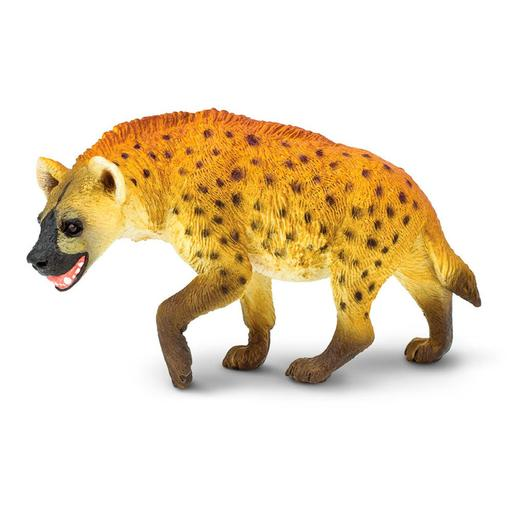Hyena: (23, 109, 486, 408)
